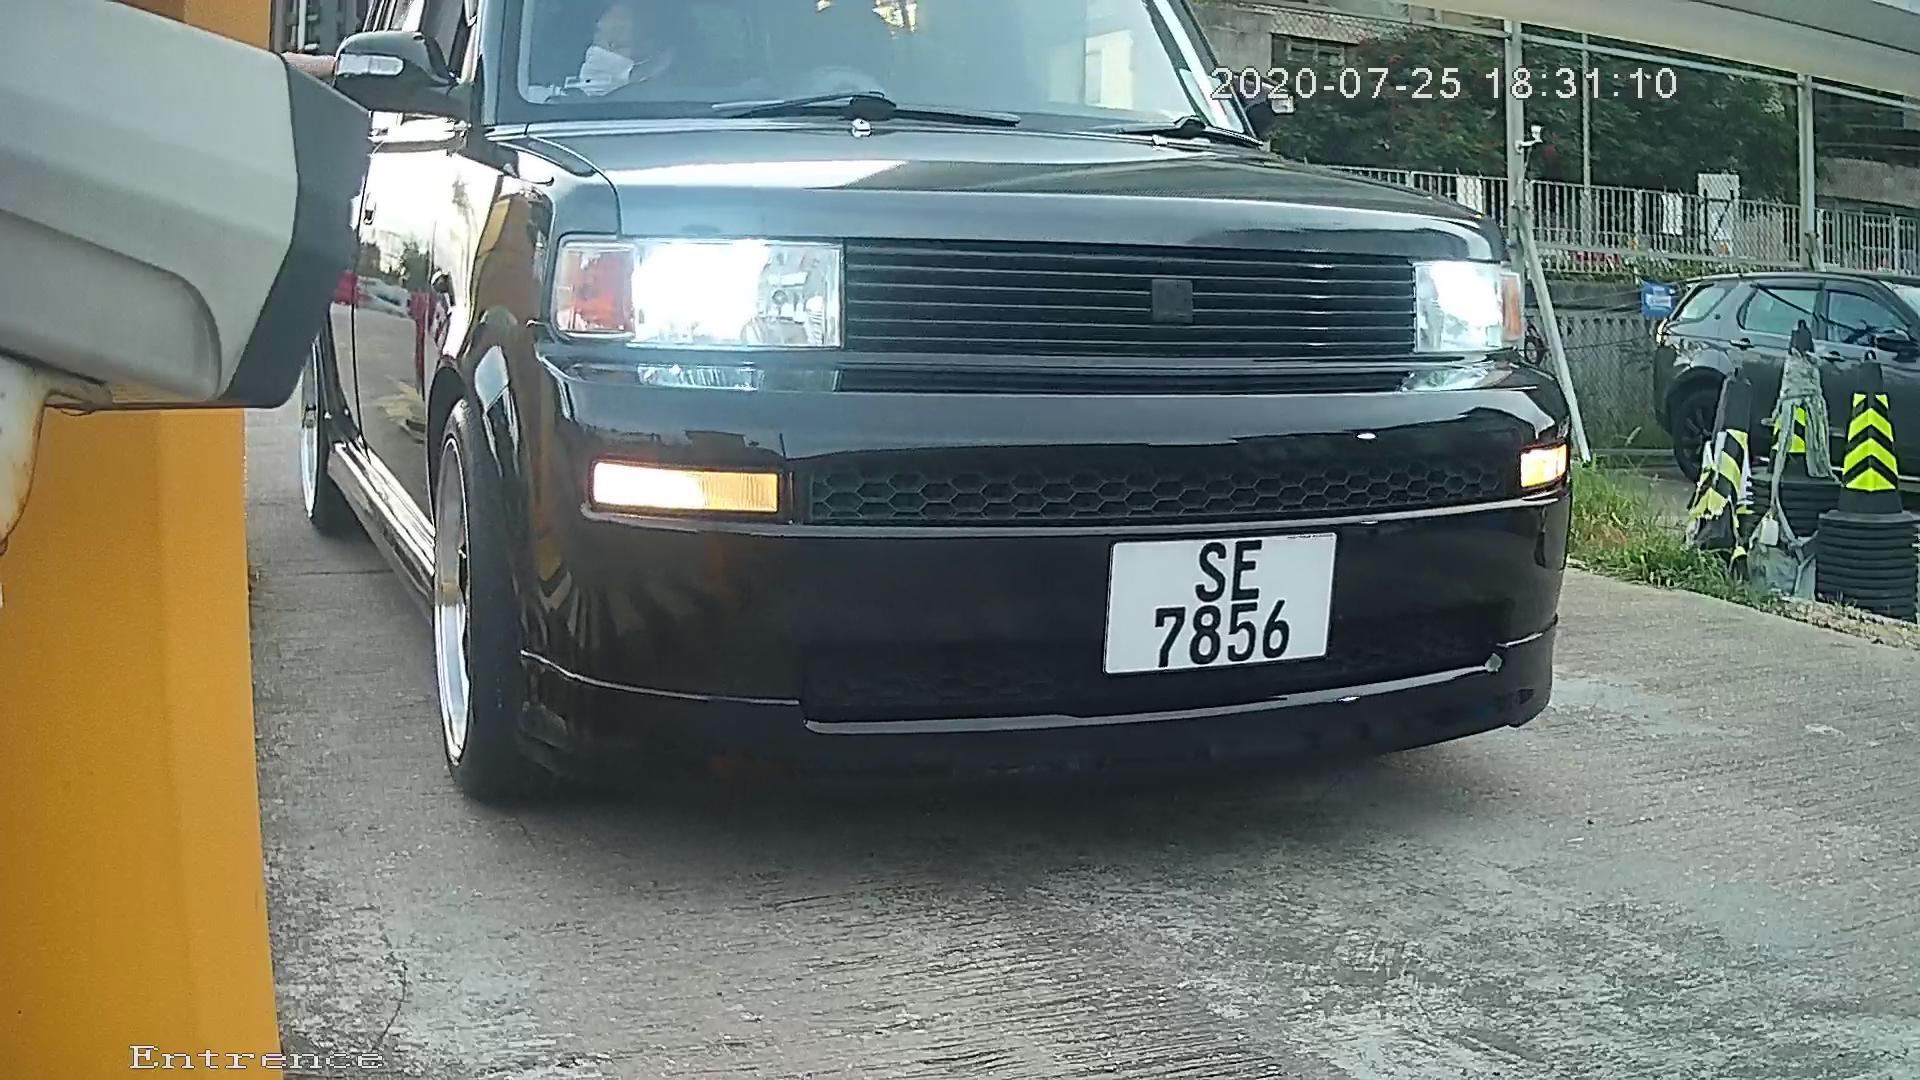License Plate: (1072, 521, 1363, 695)
